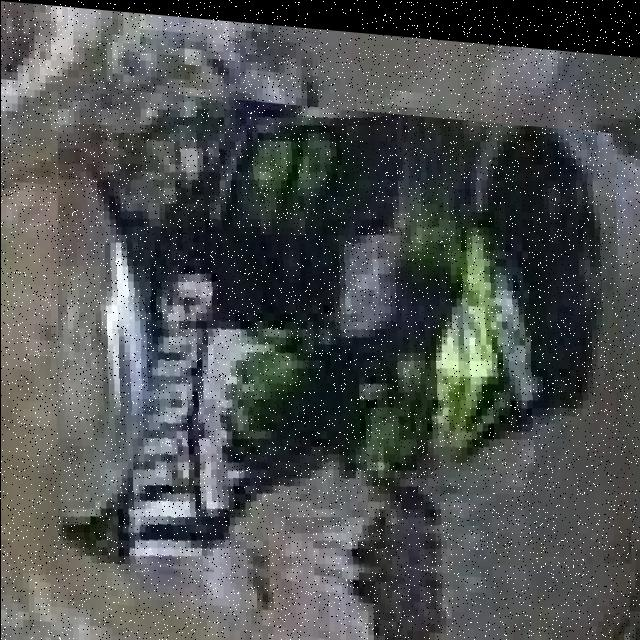can: (57, 98, 620, 568)
